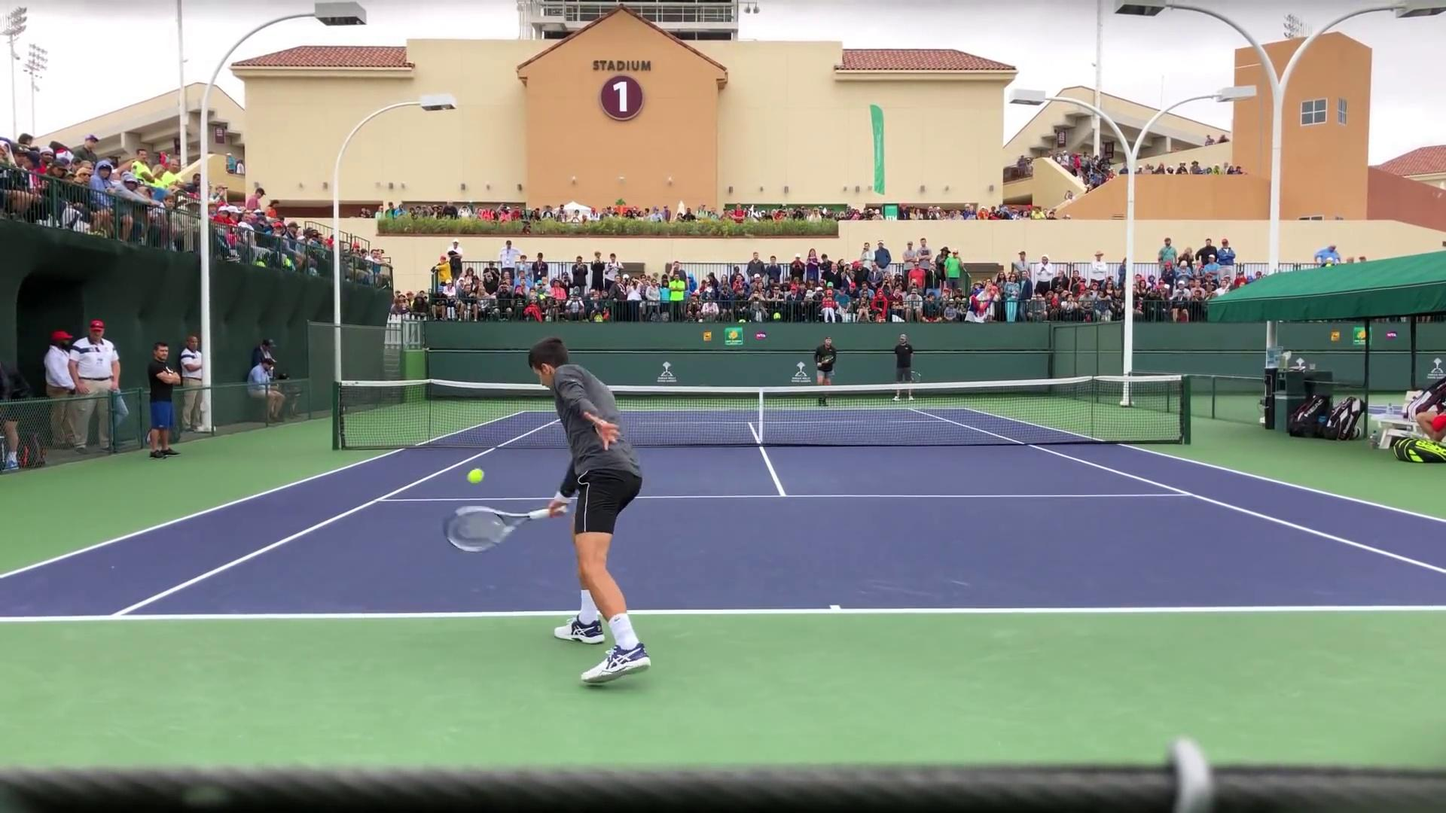ball: (465, 468, 485, 483)
